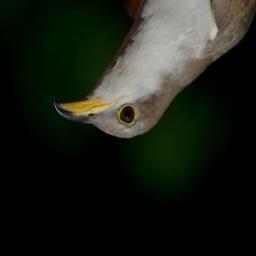Cuckoo: (54, 0, 256, 141)
